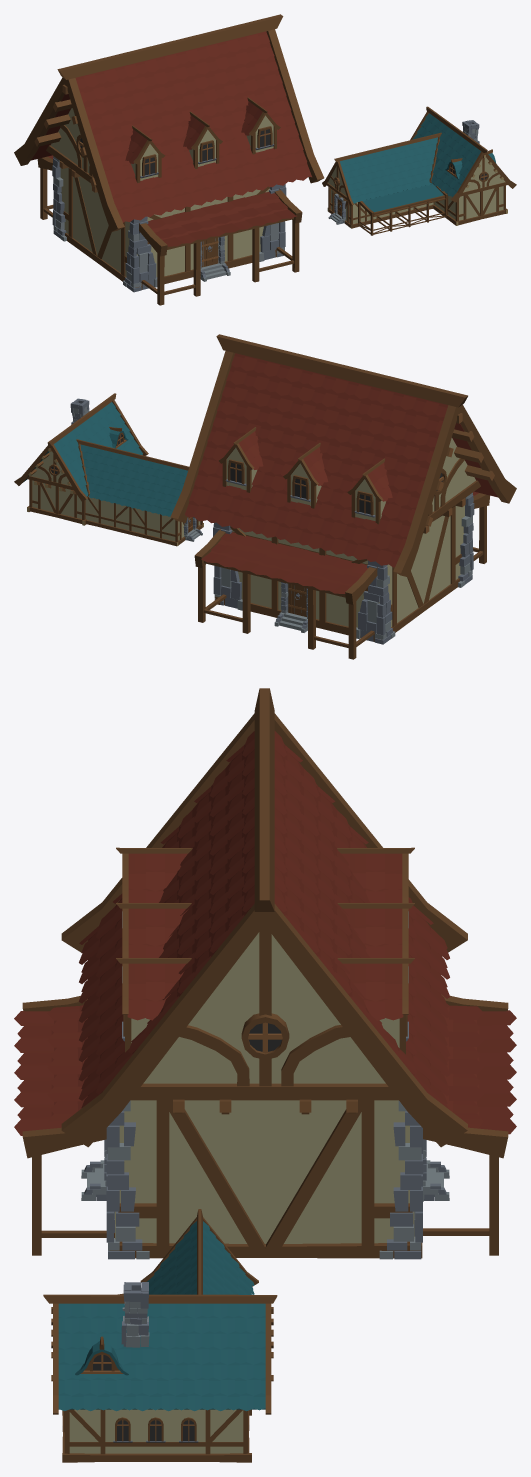
The model's file is london_tavern_2.glb.
3 views of the same model, one above another, from view 1: azimuth 30°, elevation 25°; view 2: azimuth 150°, elevation 25°; view 3: azimuth 270°, elevation 25° (orthographic). The views are drawn at different scales.
Visible parts, largest first — view 1: Inn, Stable; view 2: Inn, Stable; view 3: Inn, Stable.
Boxes of the visible parts, x1=… form: Inn: x1=14, y1=14, x2=324, y2=305; Stable: x1=322, y1=106, x2=516, y2=235; Inn: x1=170, y1=334, x2=516, y2=659; Stable: x1=14, y1=393, x2=203, y2=546; Inn: x1=14, y1=688, x2=516, y2=1259; Stable: x1=43, y1=1209, x2=277, y2=1462.
Bounding box in the file's own units: 23.34 × 11.19 × 12.87.
